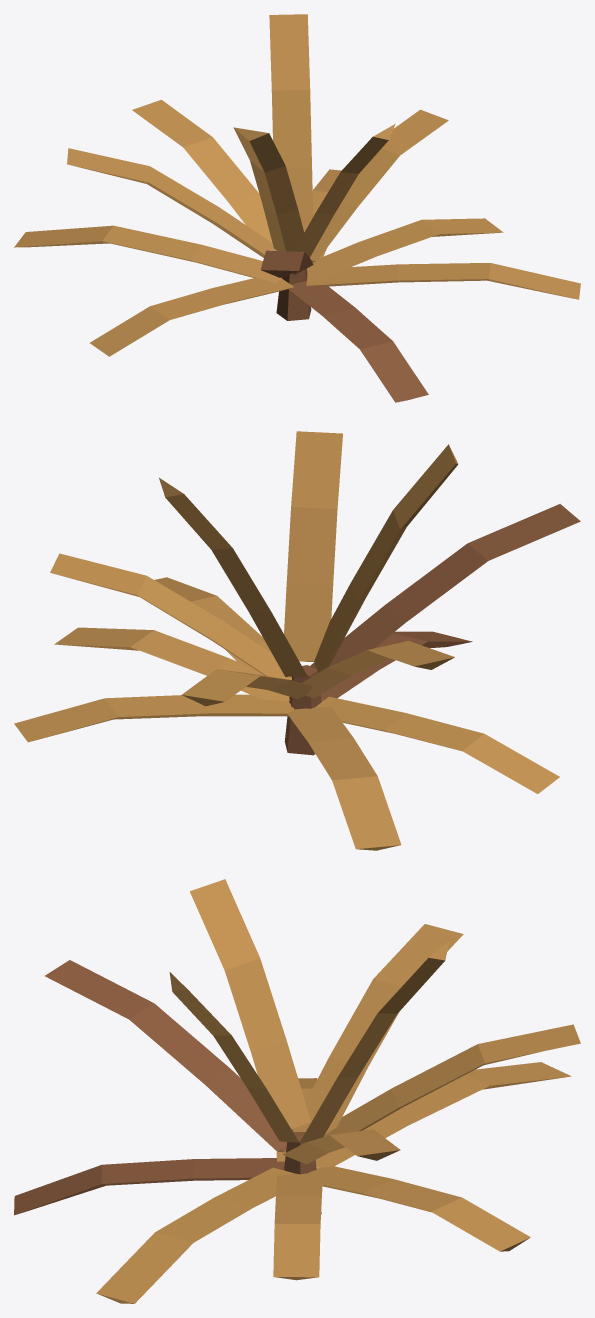
The model's file is dry_frond_small.glb.
3 views of the same model, one above another, from view 1: azimuth 30°, elevation 25°; view 2: azimuth 150°, elevation 25°; view 3: azimuth 270°, elevation 25° (orthographic). The views are drawn at different scales.
Visible parts, largest first — view 1: dry_frond_small; view 2: dry_frond_small; view 3: dry_frond_small.
Boxes of the visible parts, x1,y1,x2,y2 form: dry_frond_small: [14, 14, 580, 402]; dry_frond_small: [14, 431, 580, 850]; dry_frond_small: [14, 879, 580, 1303].
Size of the model in its own units: 0.4988 by 0.2823 by 0.4931.
